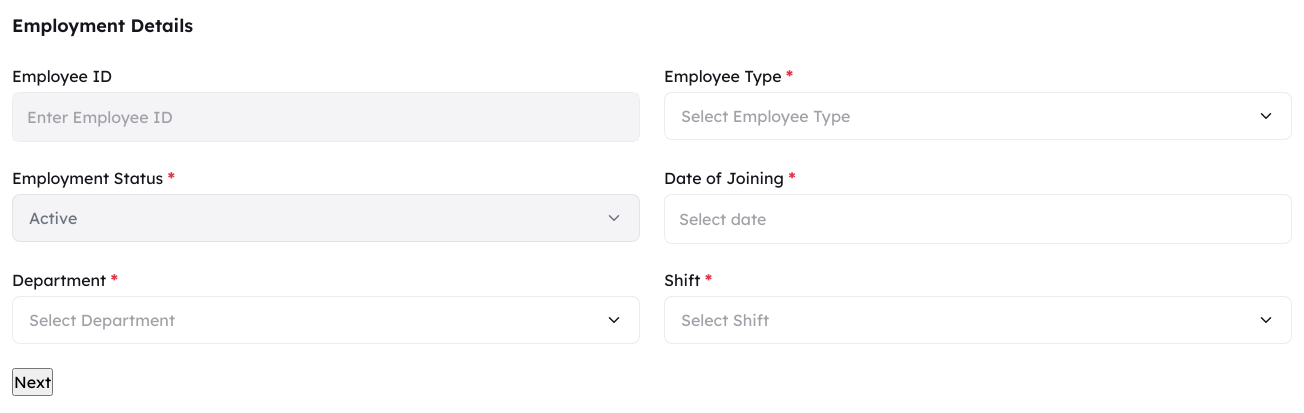
Test: ProfessionalInformationForm › keeps a dropdown selection after it is changed
This screenshot has width=1304, height=413.
Click the button "Select Employee Type": (766, 116) [664,92,1292,140]
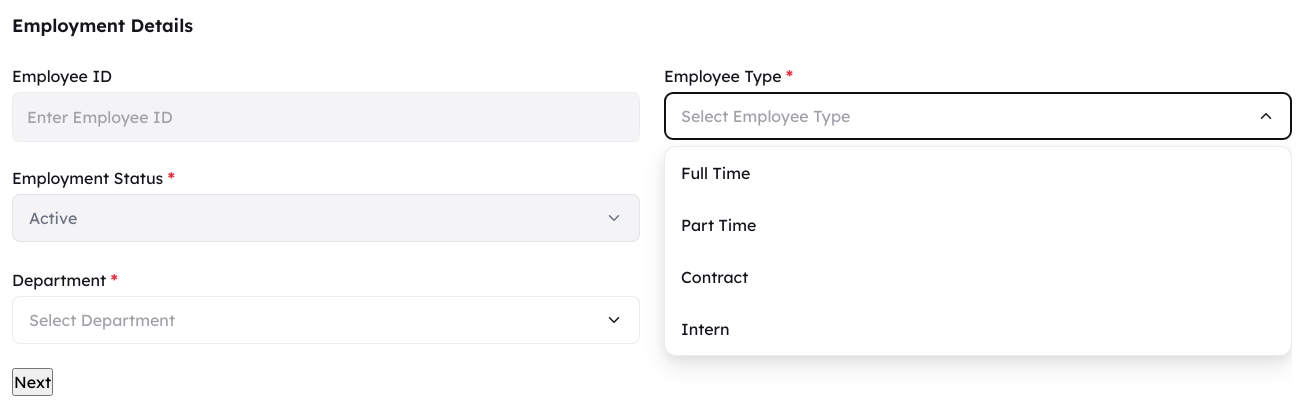
Click the button "Full Time": (716, 173) [665,147,1291,199]
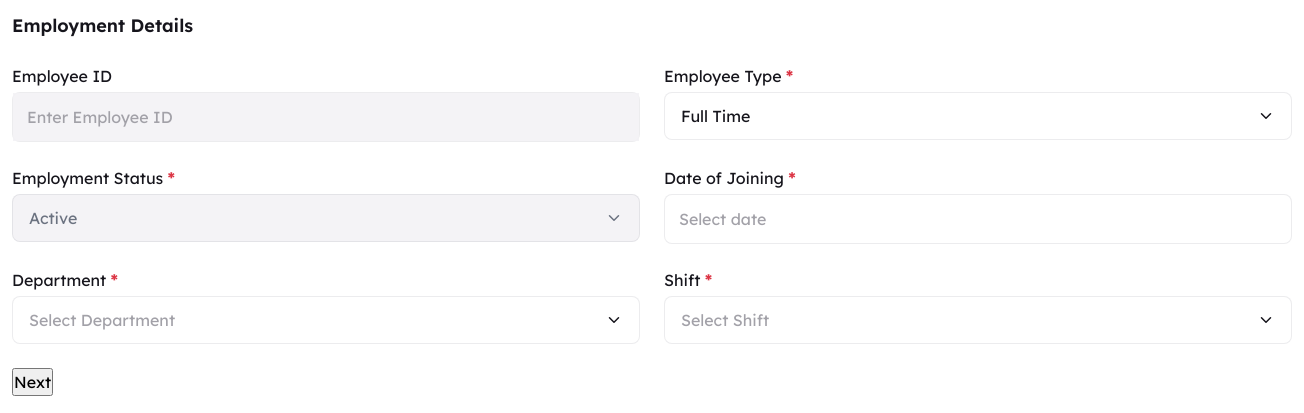
Result: the button "Full Time" is shown
Click the button "Full Time": (716, 116) [664,92,1292,140]
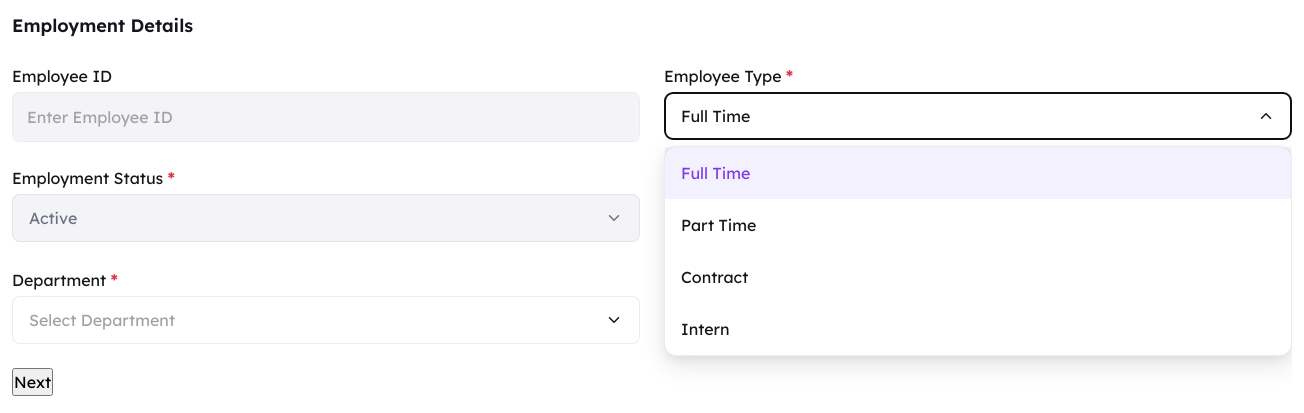
Click the button "Contract": (715, 277) [665,251,1291,303]
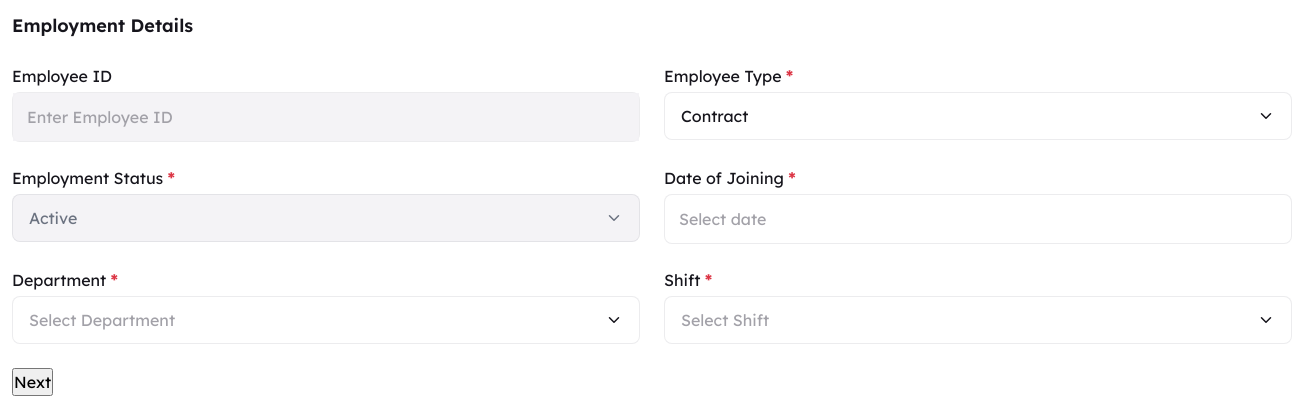
Expected: the button "Select Employee Type" is not shown
Result: the button "Contract" is shown at [664,92,1292,140]
